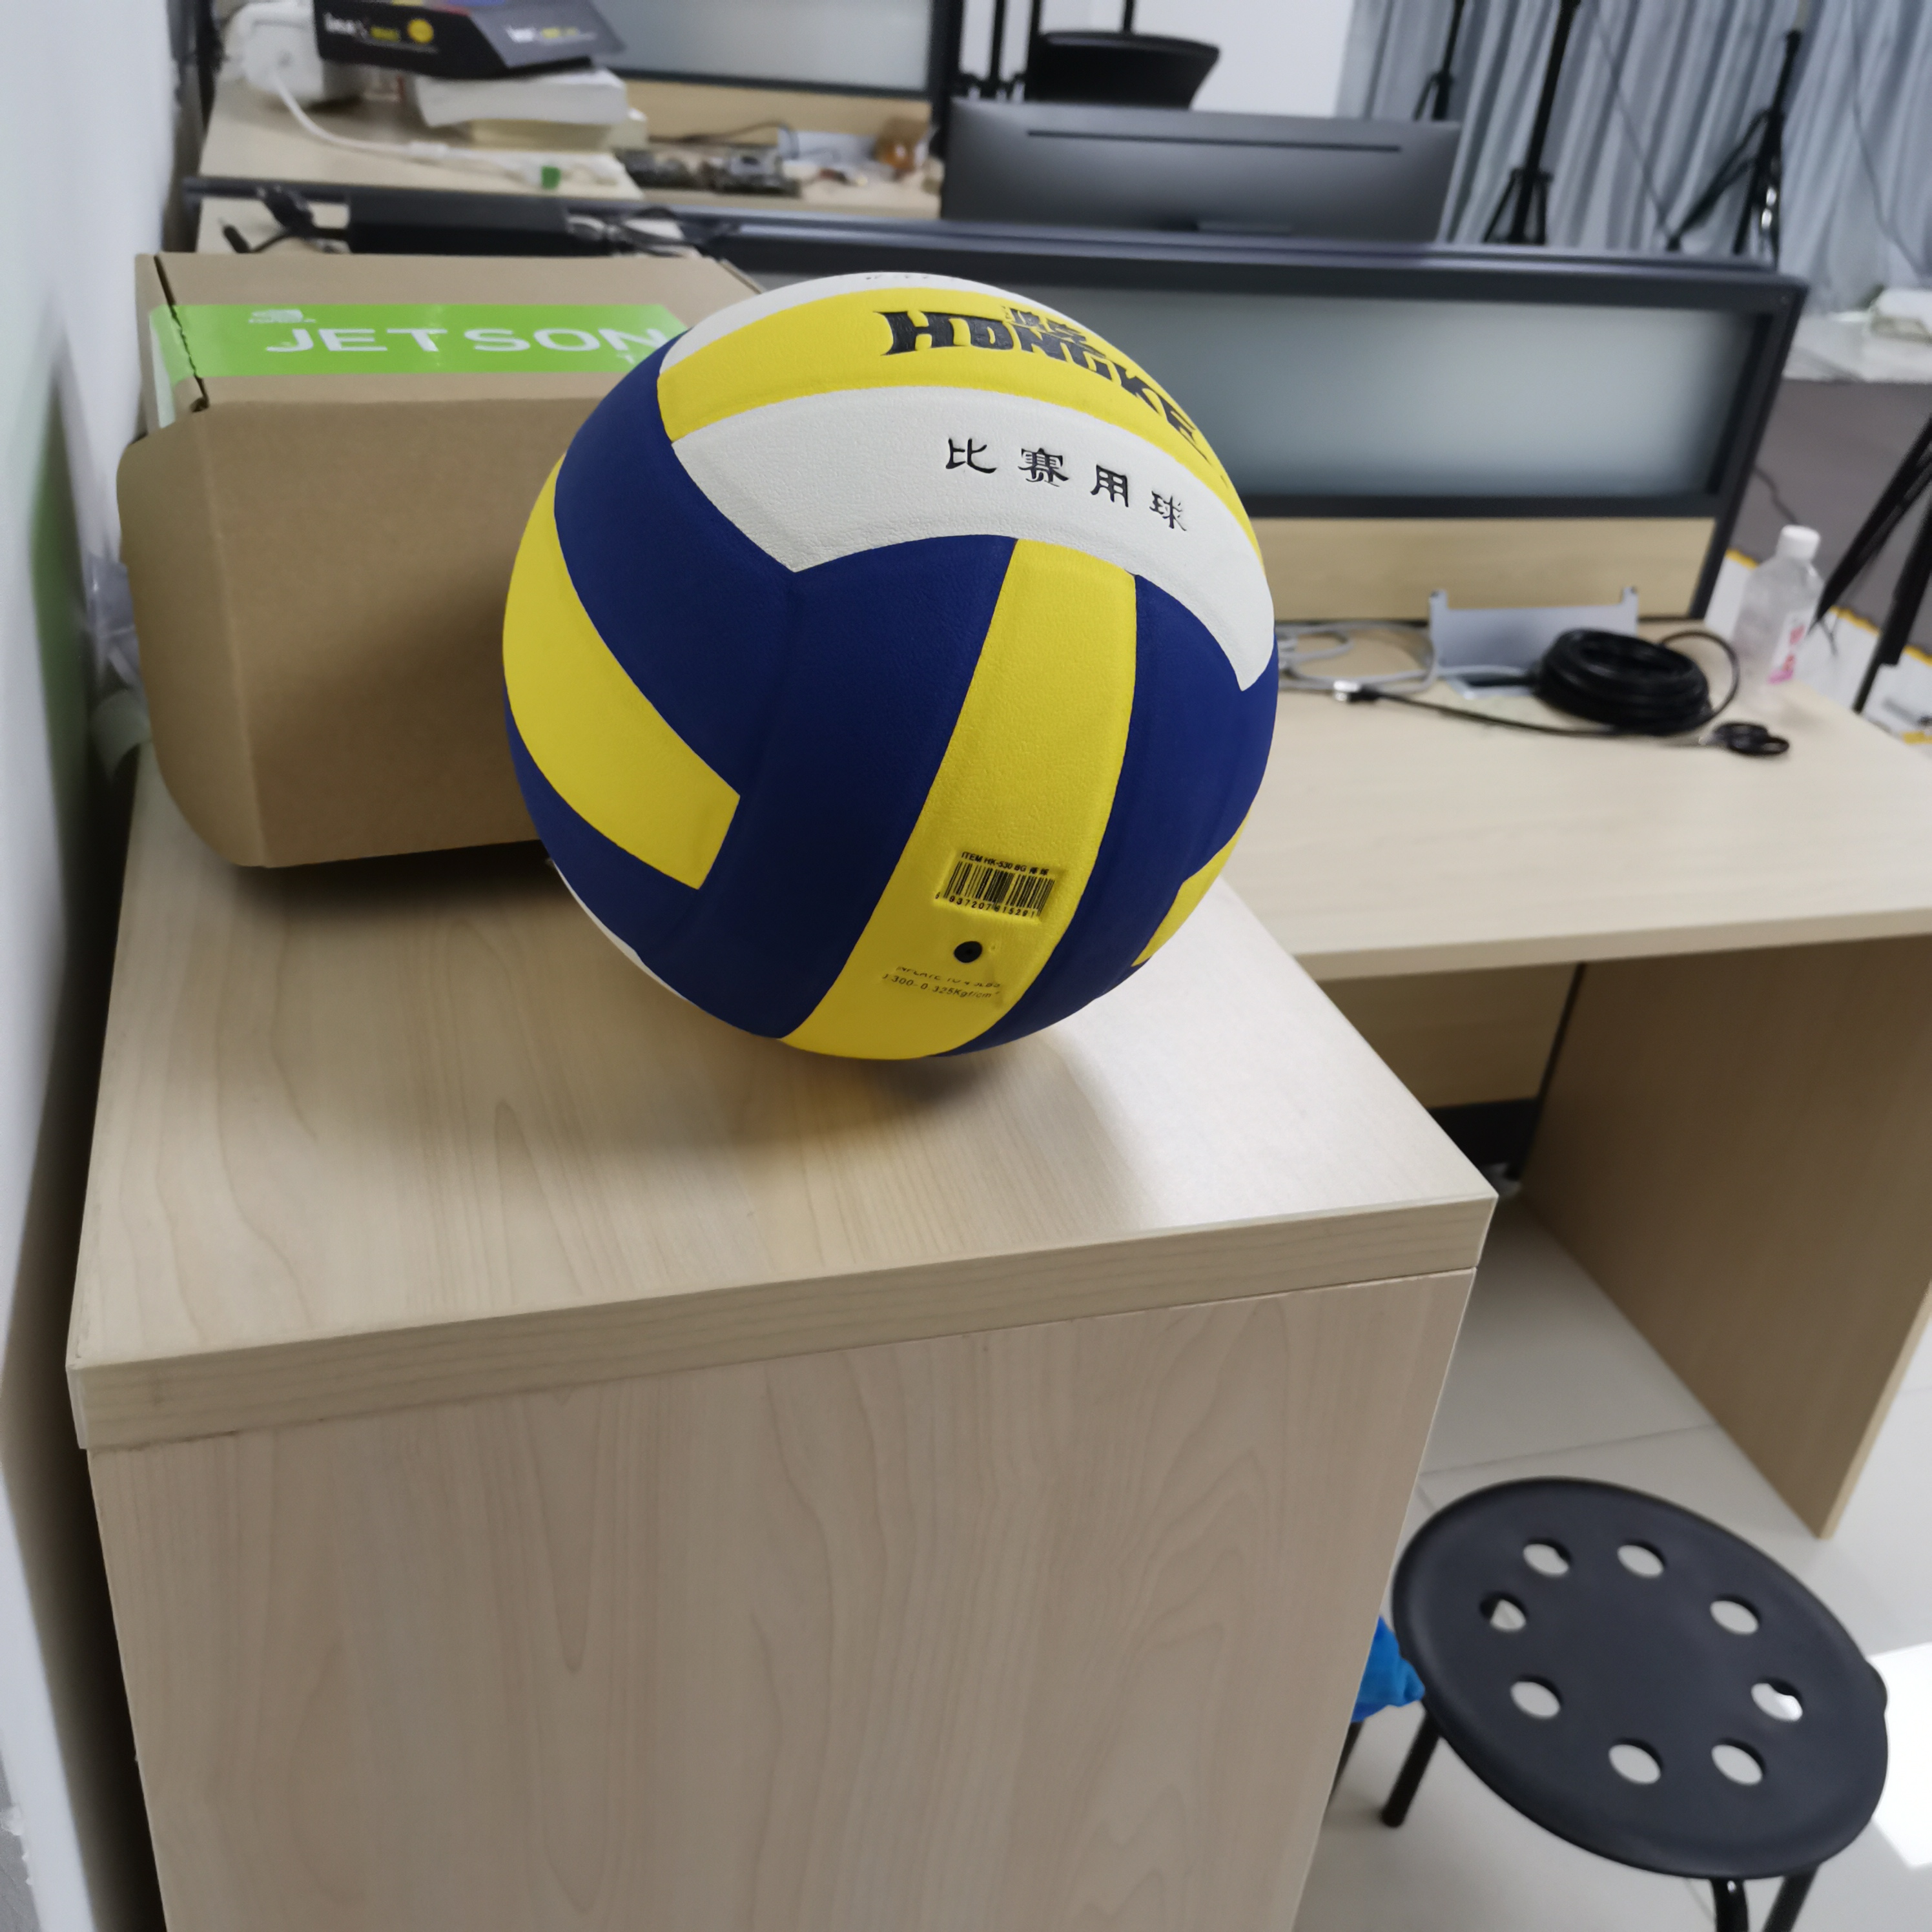volleyball: (502, 271, 1277, 1062)
